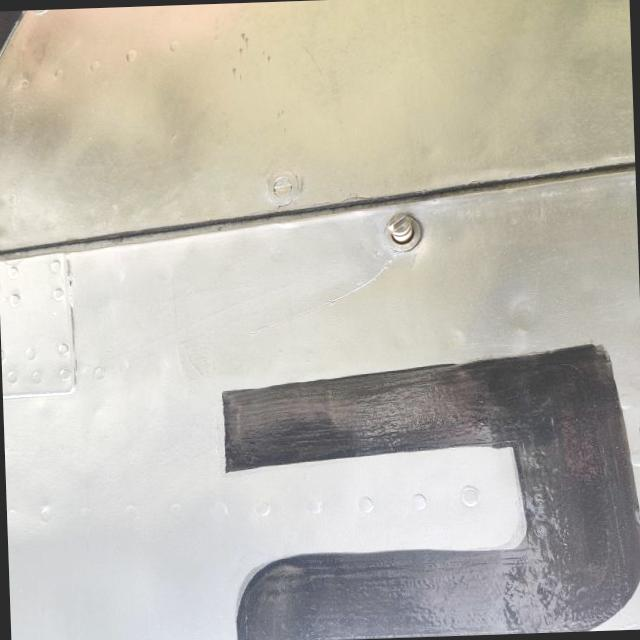scratch: (219, 244, 410, 354)
